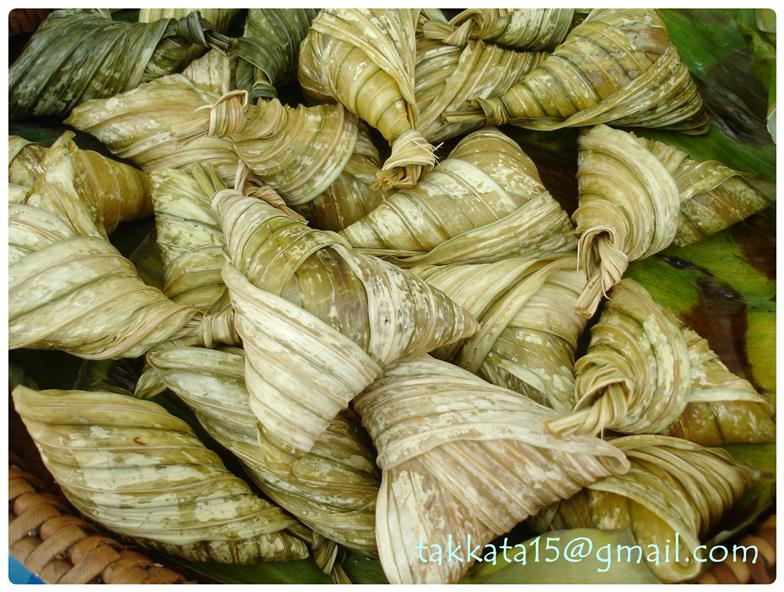kanomtom: (206, 165, 491, 467), (12, 364, 328, 574), (567, 266, 775, 471)
